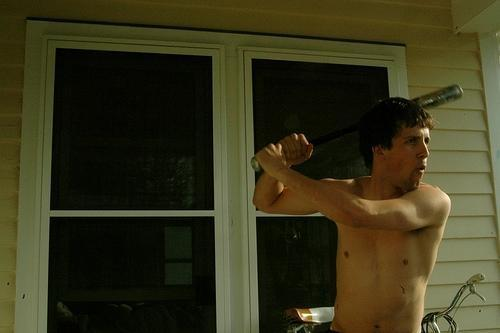bicycle: (285, 264, 494, 330)
